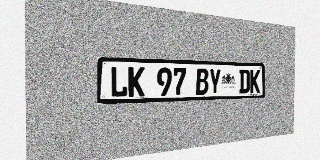7: (172, 68, 186, 96)
9: (157, 67, 172, 96)
B: (196, 68, 209, 95)
D: (239, 69, 250, 93)
K: (128, 67, 145, 97), (250, 70, 260, 93)
L: (110, 66, 128, 98)
Y: (209, 69, 221, 94)
